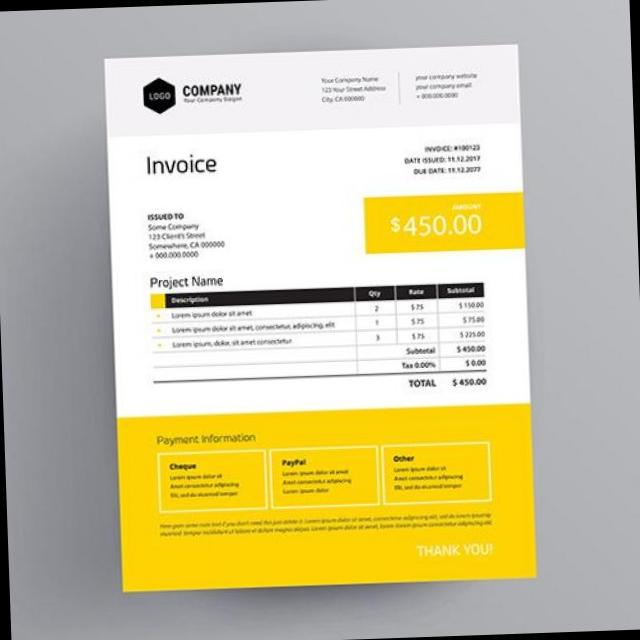customer_address: (146, 229, 228, 252)
customer_name: (144, 220, 208, 232)
due_date: (445, 162, 482, 174)
invoice_date: (447, 154, 482, 162)
invoice_number: (451, 140, 482, 152)
invoice_subtotal: (454, 341, 488, 354)
invoice_total: (444, 373, 490, 391)
item_description: (167, 304, 337, 354)
item_quantity: (362, 302, 388, 342)
item_total_price: (444, 297, 489, 339)
item_unit_price: (404, 301, 428, 339)
supplier_address: (318, 83, 392, 105)
supplier_name: (178, 77, 244, 96), (318, 73, 382, 84)
tax_amount: (457, 356, 488, 369)
tax_rate: (408, 358, 436, 371)
